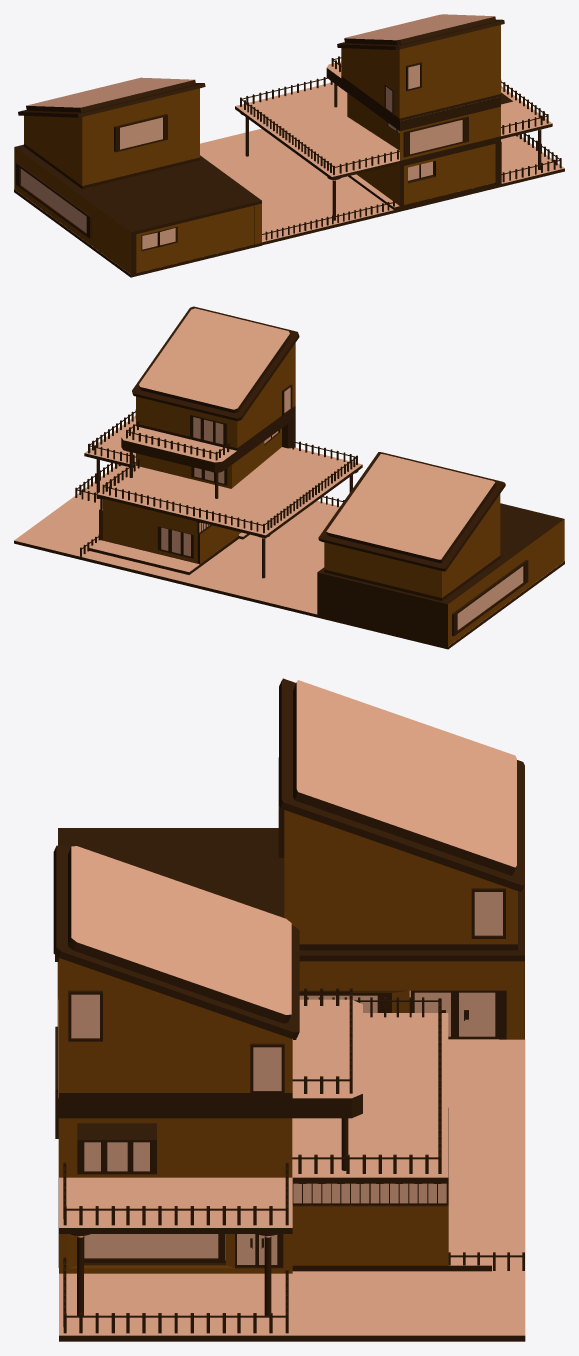
The model's file is Main_House.fbx.
3 views of the same model, one above another, from view 1: azimuth 30°, elevation 25°; view 2: azimuth 150°, elevation 25°; view 3: azimuth 270°, elevation 25° (orthographic). The views are drawn at different scales.
Visible parts, largest first — view 1: polySurface127; view 2: polySurface127; view 3: polySurface127.
Part boxes in pixels (left/top/right/bottom): polySurface127: left=14, top=14, right=564, bottom=277; polySurface127: left=14, top=306, right=564, bottom=649; polySurface127: left=53, top=678, right=525, bottom=1341.
Bounding box in the file's own units: 2895 × 1071 × 1356.
